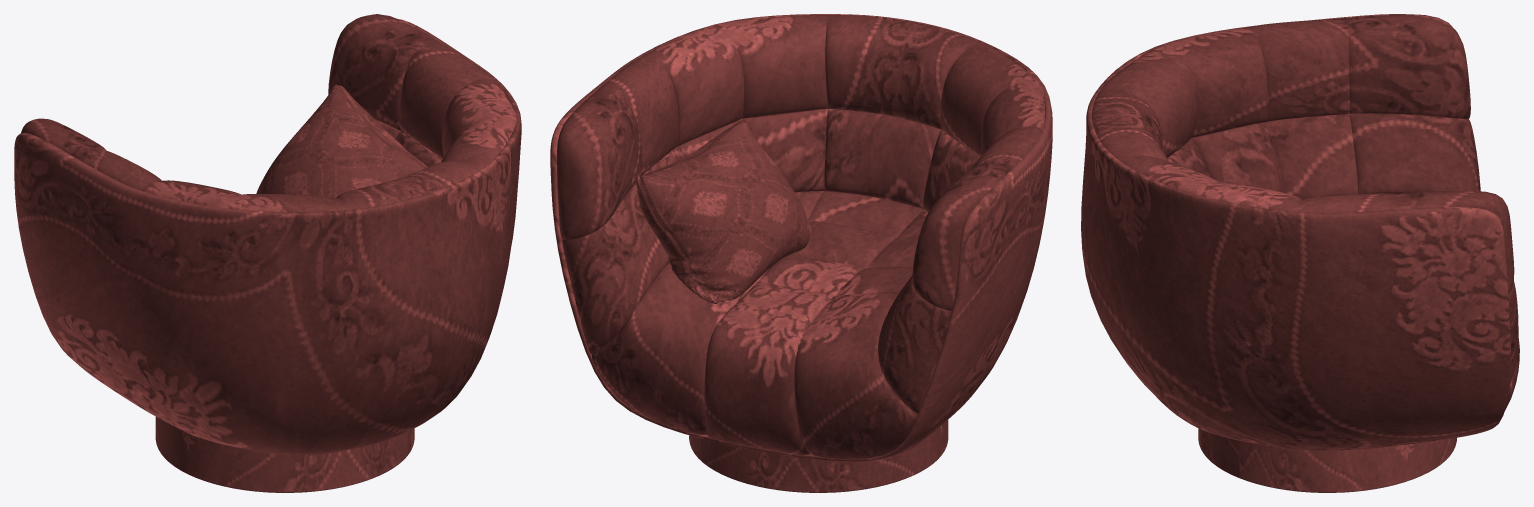
3 views of the same model, side by side, from view 1: azimuth 30°, elevation 25°; view 2: azimuth 150°, elevation 25°; view 3: azimuth 270°, elevation 25° (orthographic).
Parts seen in each view (by area): view 1: Pillow; view 2: Pillow; view 3: Pillow.
Boxes of the visible parts, x1,y1,x2,y2 form: Pillow: (14, 14, 521, 492); Pillow: (550, 14, 1052, 492); Pillow: (1081, 14, 1519, 492).
Size of the model in its own units: 6.22 by 4.68 by 5.66.
1 material, 1 textured.
